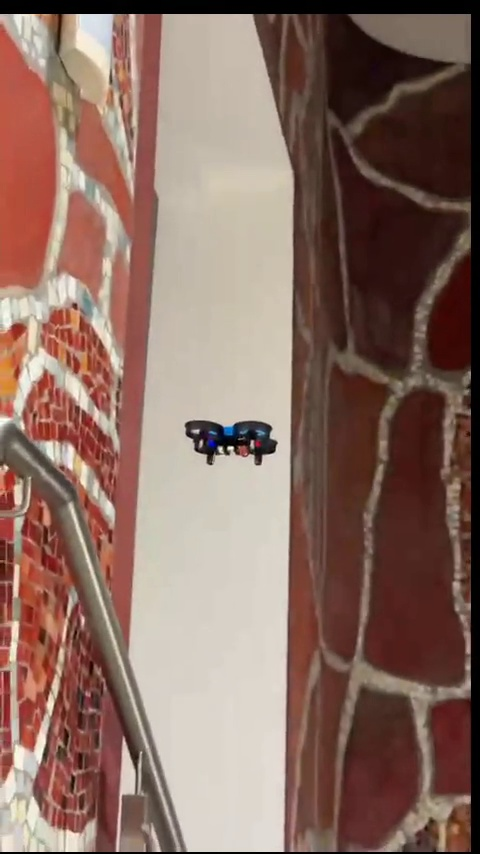drone: (184, 422, 277, 468)
